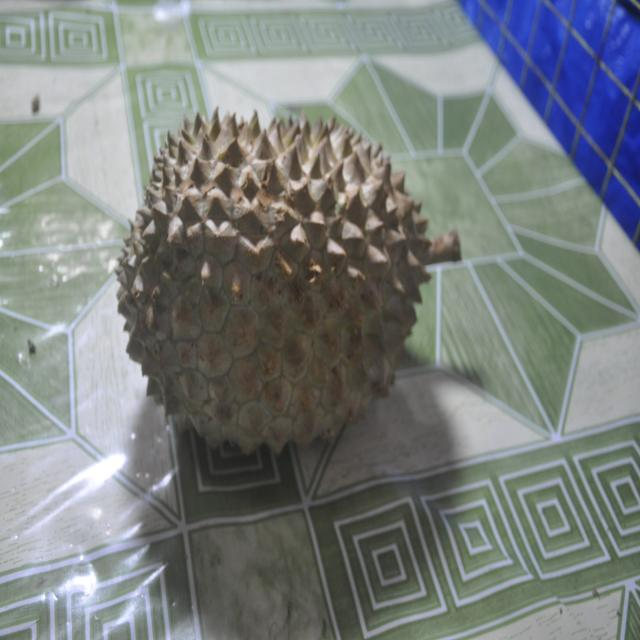mature: (117, 110, 460, 453)
